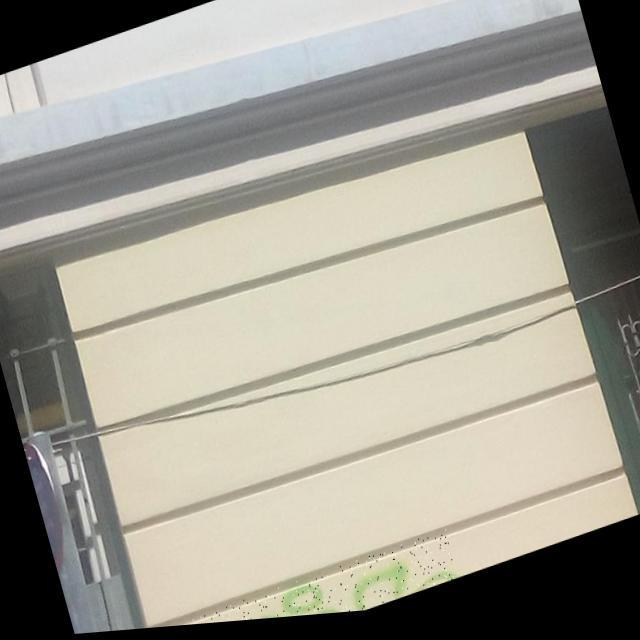-: (183, 534, 459, 628)
